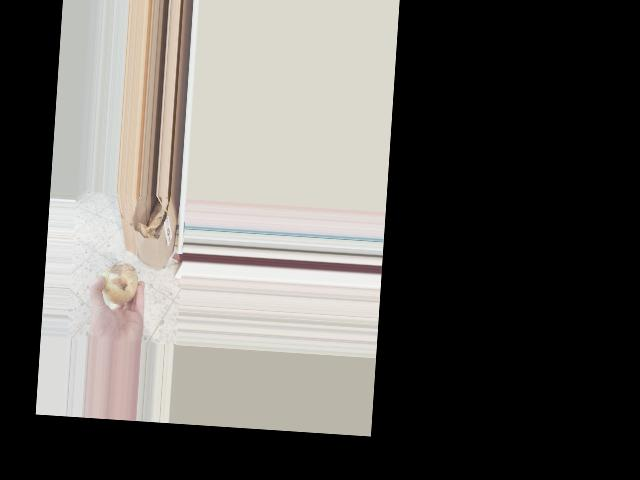onion: (96, 260, 139, 309)
